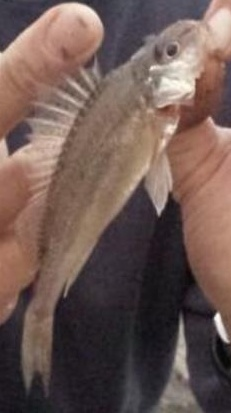Gymnocephalus cernuus: (20, 20, 211, 393)
